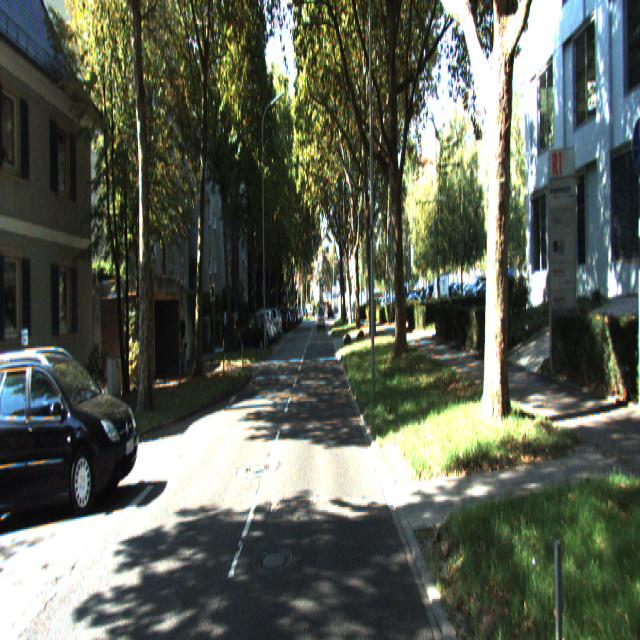Car: (0, 338, 141, 526), (236, 316, 266, 356)
